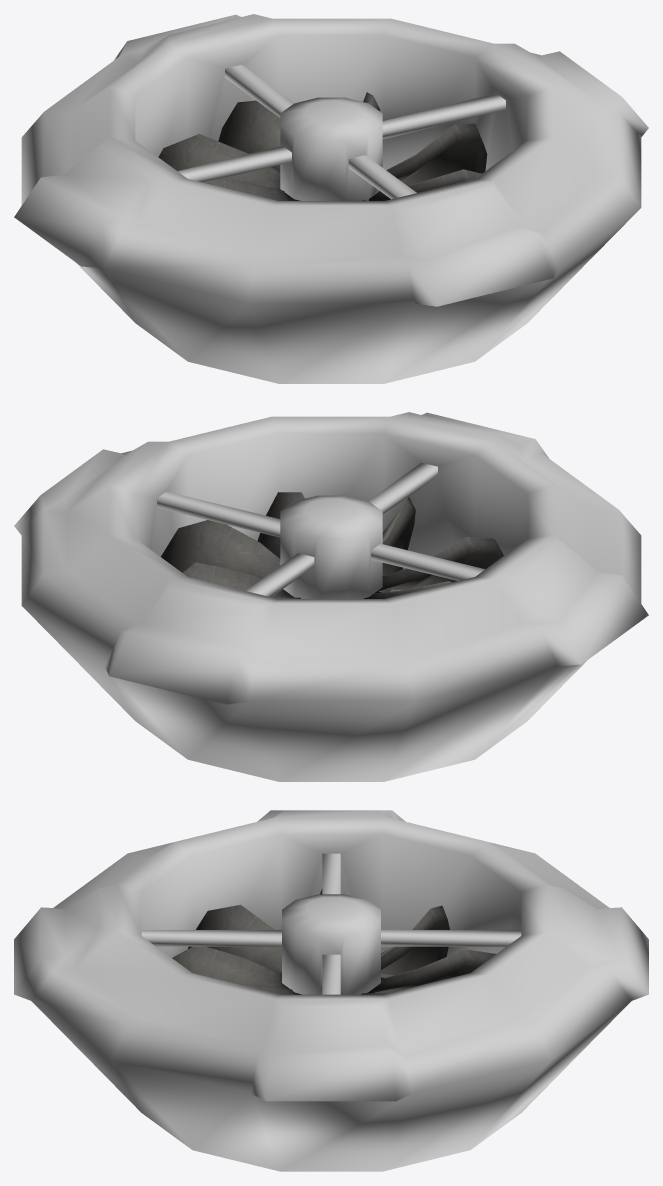
Rendered from Vent-Circular.fbx.
The picture shows the model from 3 angles, top to bottom: view 1: azimuth 30°, elevation 25°; view 2: azimuth 150°, elevation 25°; view 3: azimuth 270°, elevation 25°; orthographic projection. The views are drawn at different scales.
Parts seen in each view (by area): view 1: Vent-Circular, Blades-Vent-Circular; view 2: Vent-Circular, Blades-Vent-Circular; view 3: Vent-Circular, Blades-Vent-Circular.
Boxes of the visible parts, <box> form: Vent-Circular: <box>14,14,648,383</box>; Blades-Vent-Circular: <box>158,92,487,200</box>; Vent-Circular: <box>14,412,648,781</box>; Blades-Vent-Circular: <box>161,492,503,598</box>; Vent-Circular: <box>14,810,648,1171</box>; Blades-Vent-Circular: <box>172,888,496,994</box>.
Size of the model in its own units: 24 by 7.65 by 24.
